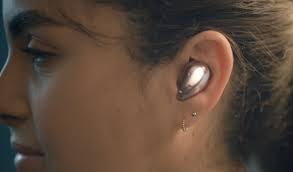earphone: (174, 59, 213, 102)
